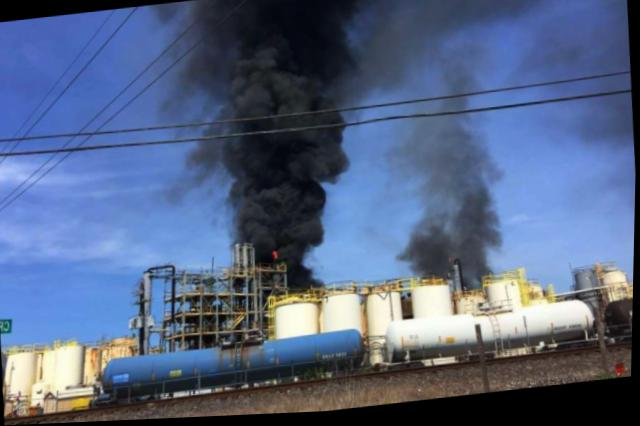smoke: (392, 66, 514, 285), (185, 0, 367, 96), (219, 84, 347, 206), (149, 0, 220, 200), (584, 0, 639, 218), (536, 0, 601, 154), (395, 0, 545, 48), (230, 200, 327, 245), (502, 65, 550, 131), (362, 10, 396, 95), (285, 237, 330, 290), (258, 244, 274, 266)
